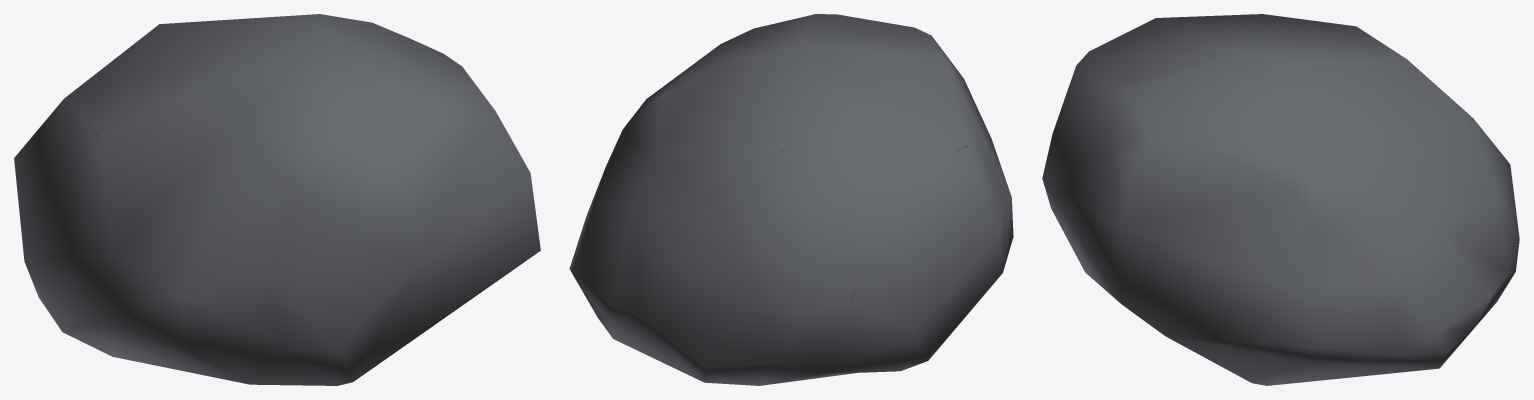
The model's file is Boulder.fbx.
3 renders of one model, left to right at view 1: azimuth 30°, elevation 25°; view 2: azimuth 150°, elevation 25°; view 3: azimuth 270°, elevation 25°, orthographic. The views are drawn at different scales.
Visible parts, largest first — view 1: BoulderLP; view 2: BoulderLP; view 3: BoulderLP.
Part boxes in pixels (x1,y1,x2,y2): BoulderLP: (14,14,540,385); BoulderLP: (569,14,1013,385); BoulderLP: (1042,14,1519,385).
Size of the model in its own units: 118 by 83 by 121.
